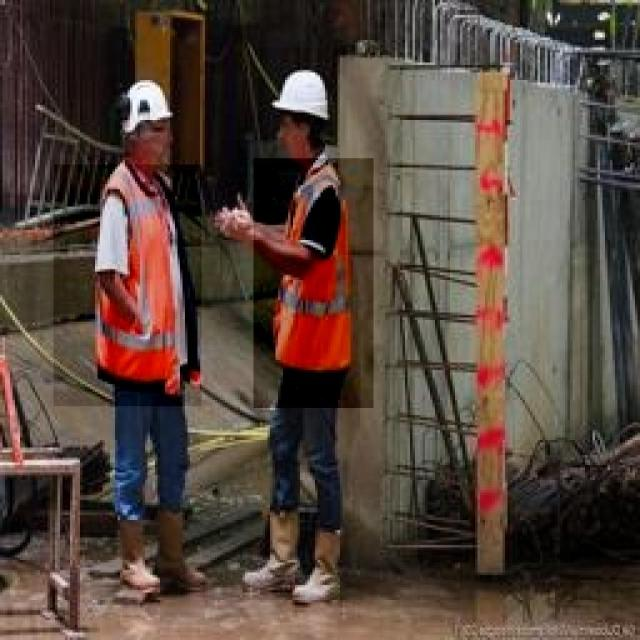Helmet: (258, 47, 346, 147), (96, 66, 188, 154)
Safety Vest: (54, 165, 202, 407), (254, 158, 374, 408)
